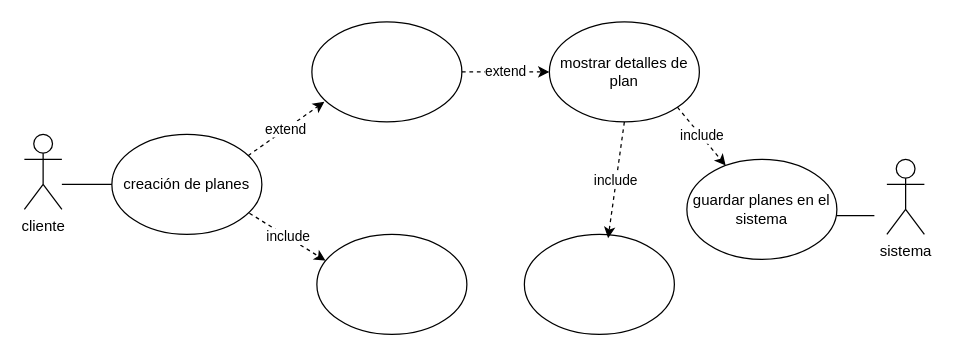
This 953x356 diagram has some shape labels left out. The centre of each missing label's shape, as x and y in pixels:
enviar notificación de email: point (598, 283)
formulario de creación de planes: point (386, 71)
verificar stock de planes: point (391, 283)
